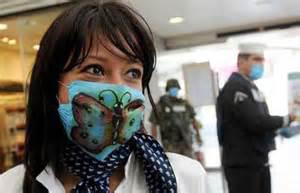OK: (60, 54, 150, 151), (242, 56, 266, 79)
